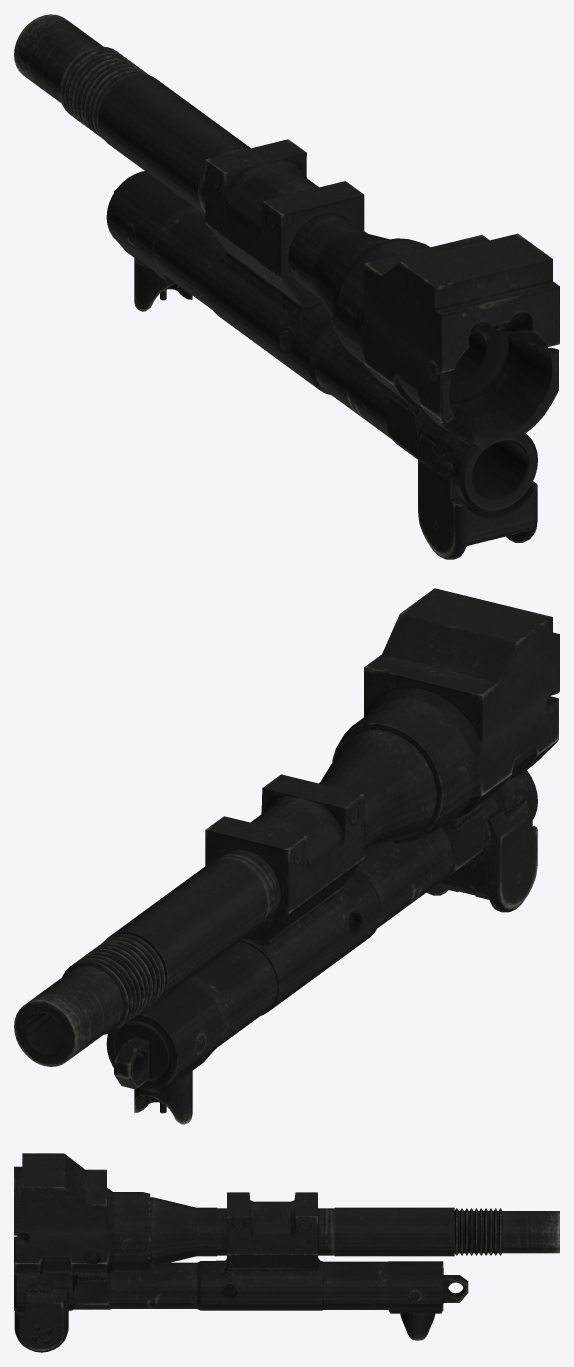
3 renders of one model, top to bottom at view 1: azimuth 30°, elevation 25°; view 2: azimuth 150°, elevation 25°; view 3: azimuth 270°, elevation 25°, orthographic. The views are drawn at different scales.
Parts seen in each view (by area): view 1: TW_645123013d52156624001fd1_PZ_Import; view 2: TW_645123013d52156624001fd1_PZ_Import; view 3: TW_645123013d52156624001fd1_PZ_Import.
Part boxes in pixels (x1=…): TW_645123013d52156624001fd1_PZ_Import: x1=14, y1=14, x2=559, y2=559; TW_645123013d52156624001fd1_PZ_Import: x1=14, y1=588, x2=559, y2=1124; TW_645123013d52156624001fd1_PZ_Import: x1=14, y1=1153, x2=559, y2=1352.
Size of the model in its own units: 0.0156 by 0.104 by 0.0361.
1 material, 1 textured.
